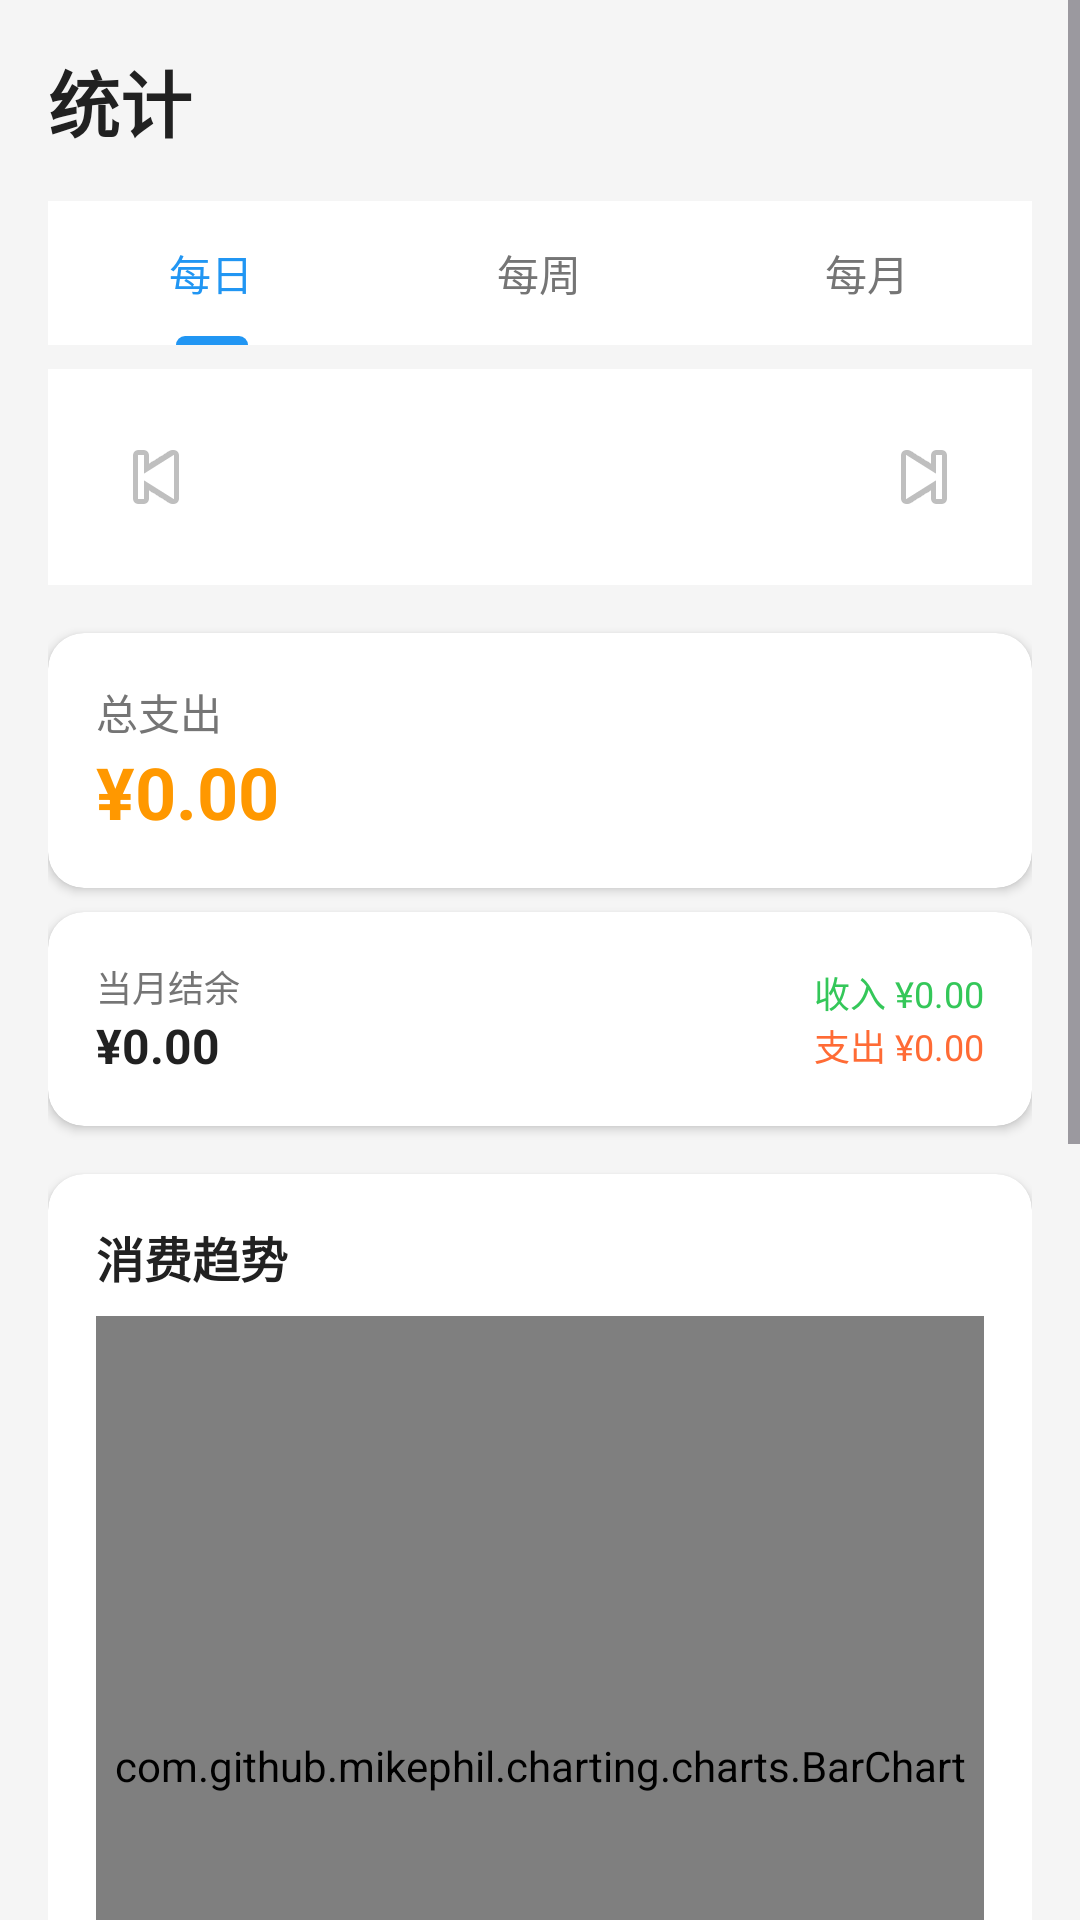

Point at icon controls on the screen. Image size 1080×1920, points as (x,y).
Next: (924,477)
Previous: (156,477)
